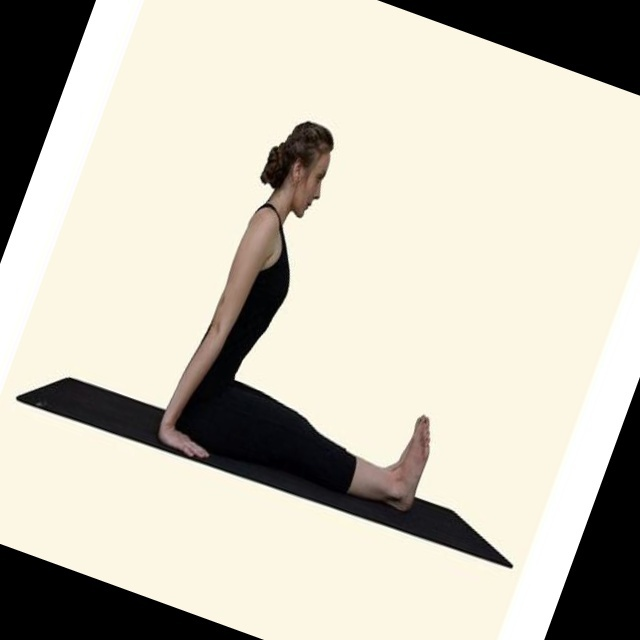Staff_Pose: (155, 118, 434, 516)
